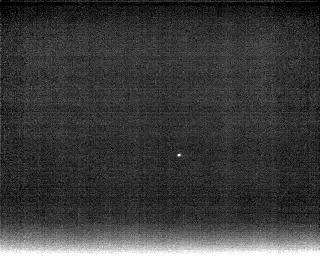BIRD: (174, 150, 184, 161)
